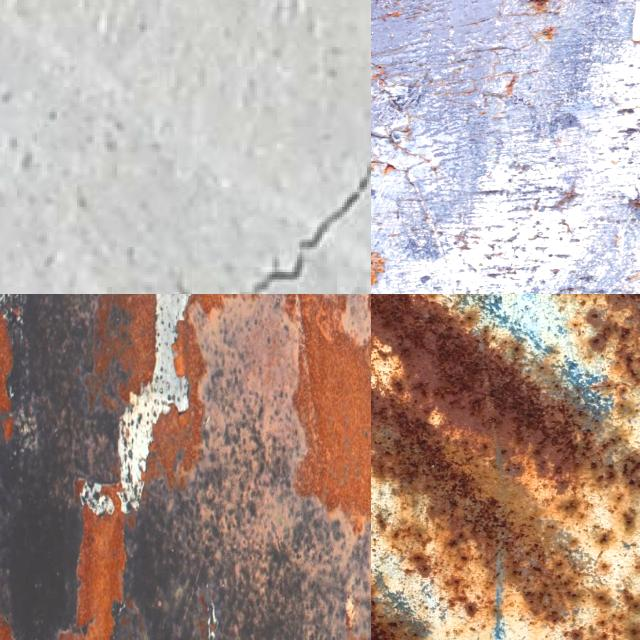Crack: (245, 161, 371, 294)
Pitting Corrosion: (371, 294, 640, 640)
Uniform Corrosion: (286, 294, 371, 530), (55, 494, 126, 640), (147, 315, 206, 488), (86, 294, 155, 410)
